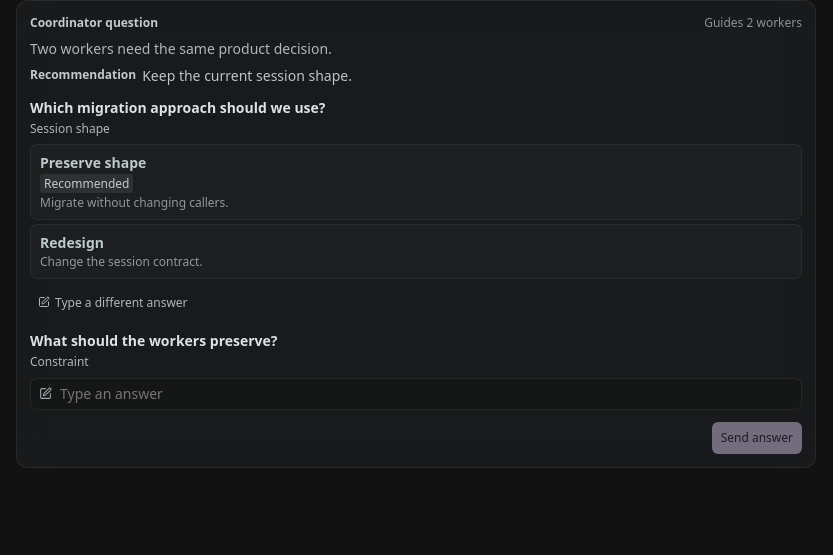
Test: FocusCoordinatorQuestions › keeps drafts and shows an inline error when resolving is rejected
Click the radio button labelled "Preserve shape Recommended Migrate without changing callers." at (93, 162), box [30,144,802,220]
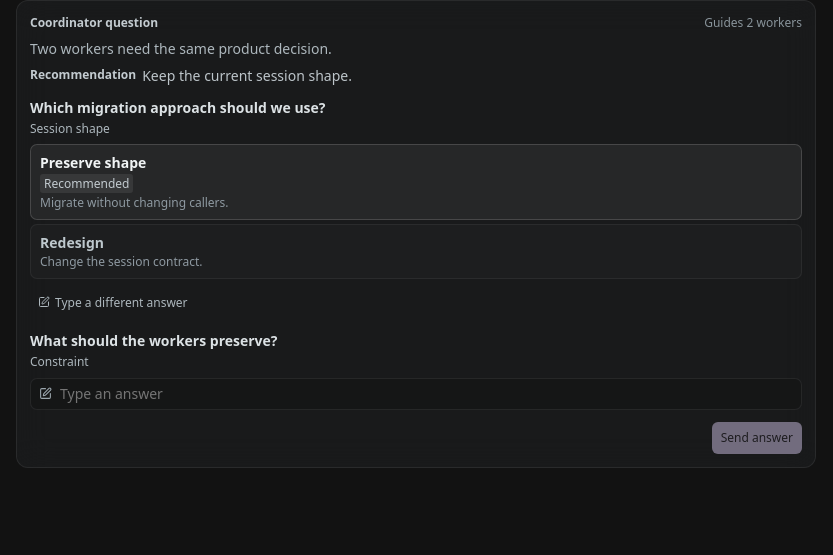
Type "Keep cookies" into the field named "Answer for What should the workers preserve?" at (426, 394), box [58,383,793,404]
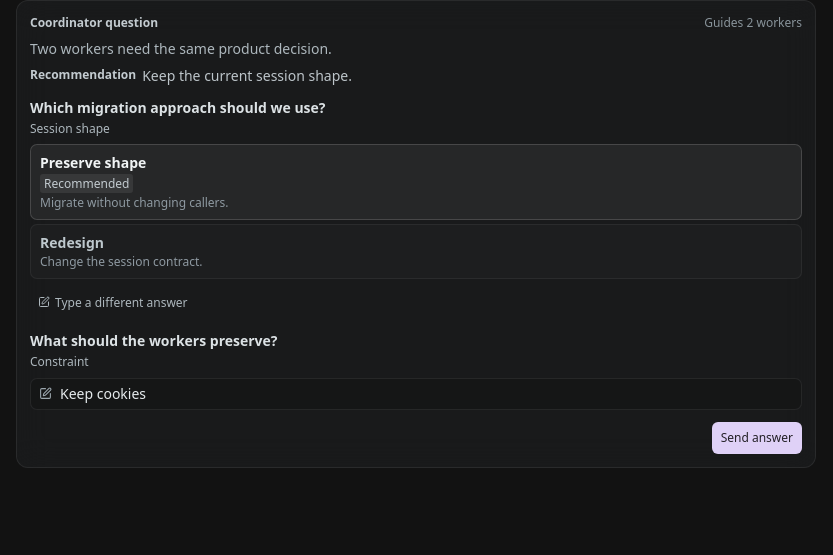
Click the button "Send answer" at (757, 438), box [712,422,802,454]
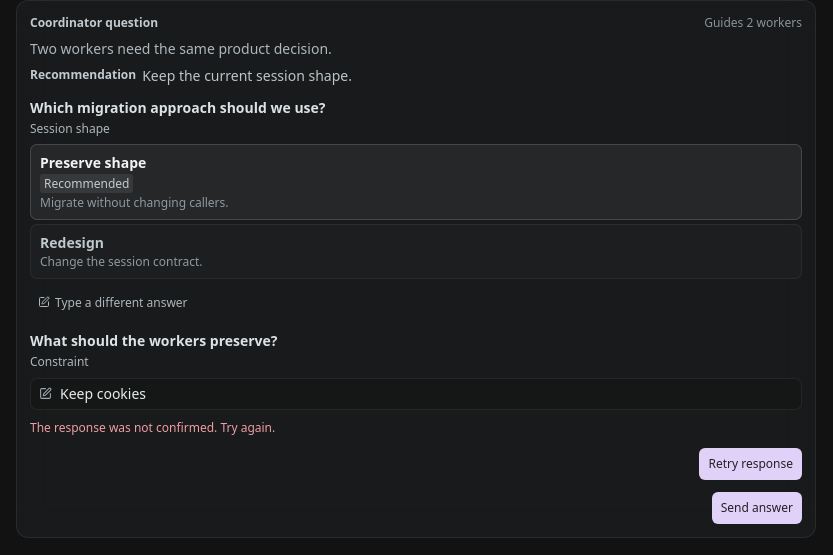
Expected: the message shows "not confirmed", [30,419,275,436]
